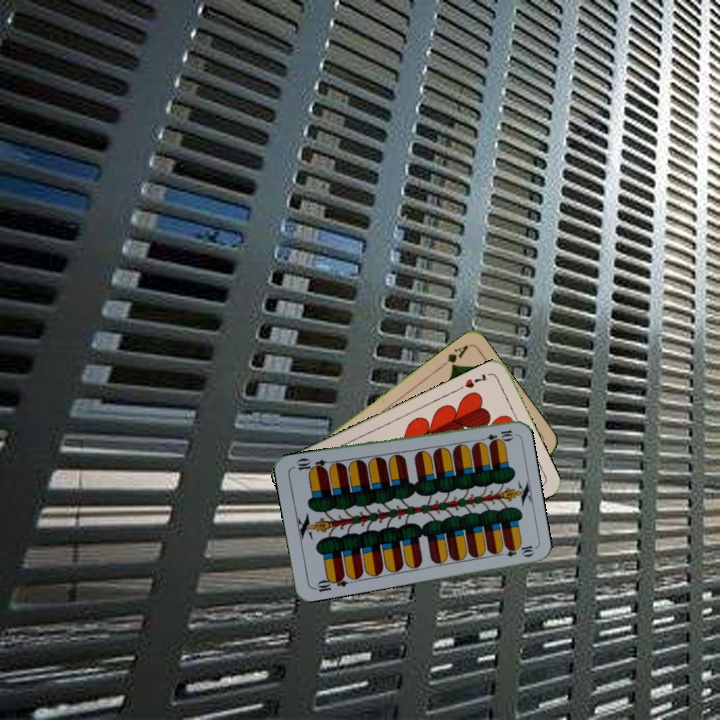E10: (310, 571, 350, 595), (475, 426, 516, 445)
GA: (436, 341, 471, 371)
H7: (455, 370, 489, 393)
